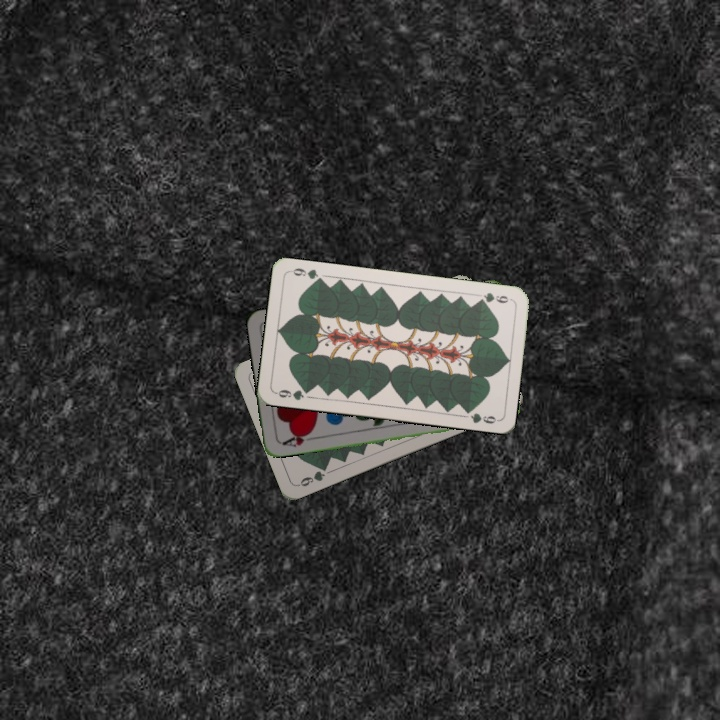G9: (294, 462, 330, 489), (272, 385, 313, 403), (474, 288, 514, 306)
HA: (278, 428, 317, 449)
